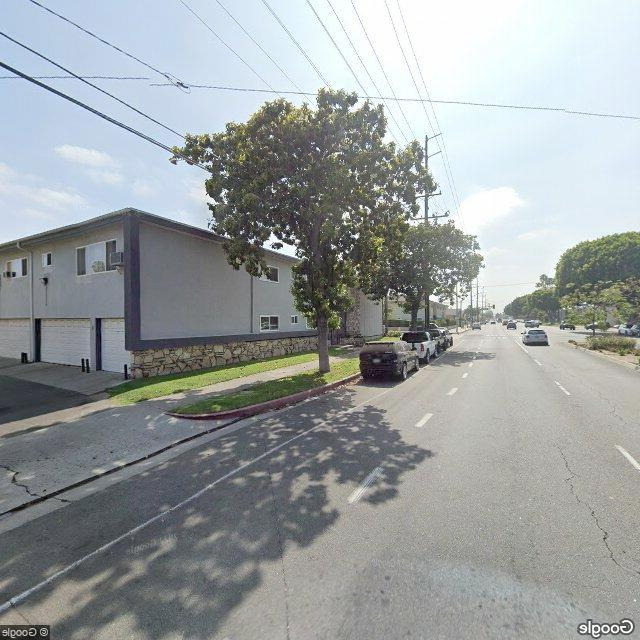pothole: (553, 437, 640, 605)
